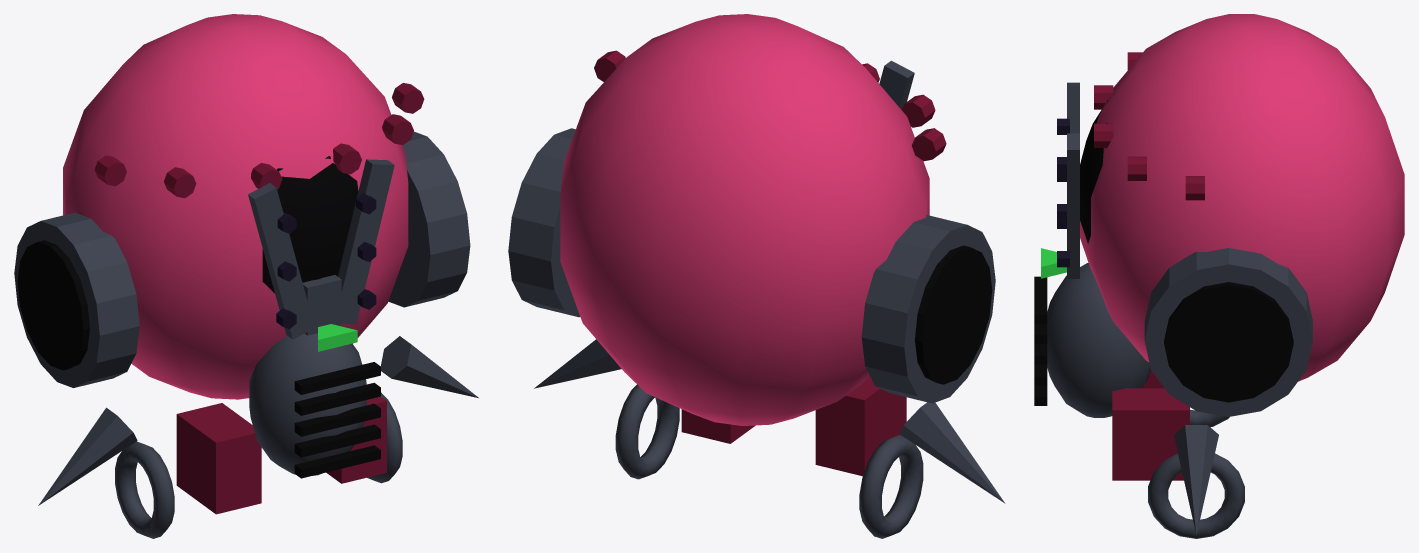
File: Enemy_healer.fbx
3 renders of one model, left to right at view 1: azimuth 30°, elevation 25°; view 2: azimuth 150°, elevation 25°; view 3: azimuth 270°, elevation 25°, orthographic. The views are drawn at different scales.
Parts seen in each view (by area): view 1: Enemy_healer; view 2: Enemy_healer; view 3: Enemy_healer.
Part boxes in pixels (x1,y1,x2,y2): Enemy_healer: (14, 14, 478, 538); Enemy_healer: (508, 14, 1005, 538); Enemy_healer: (1034, 14, 1404, 538).
Bounding box in the file's own units: 0.7749 × 0.776 × 0.5711.
